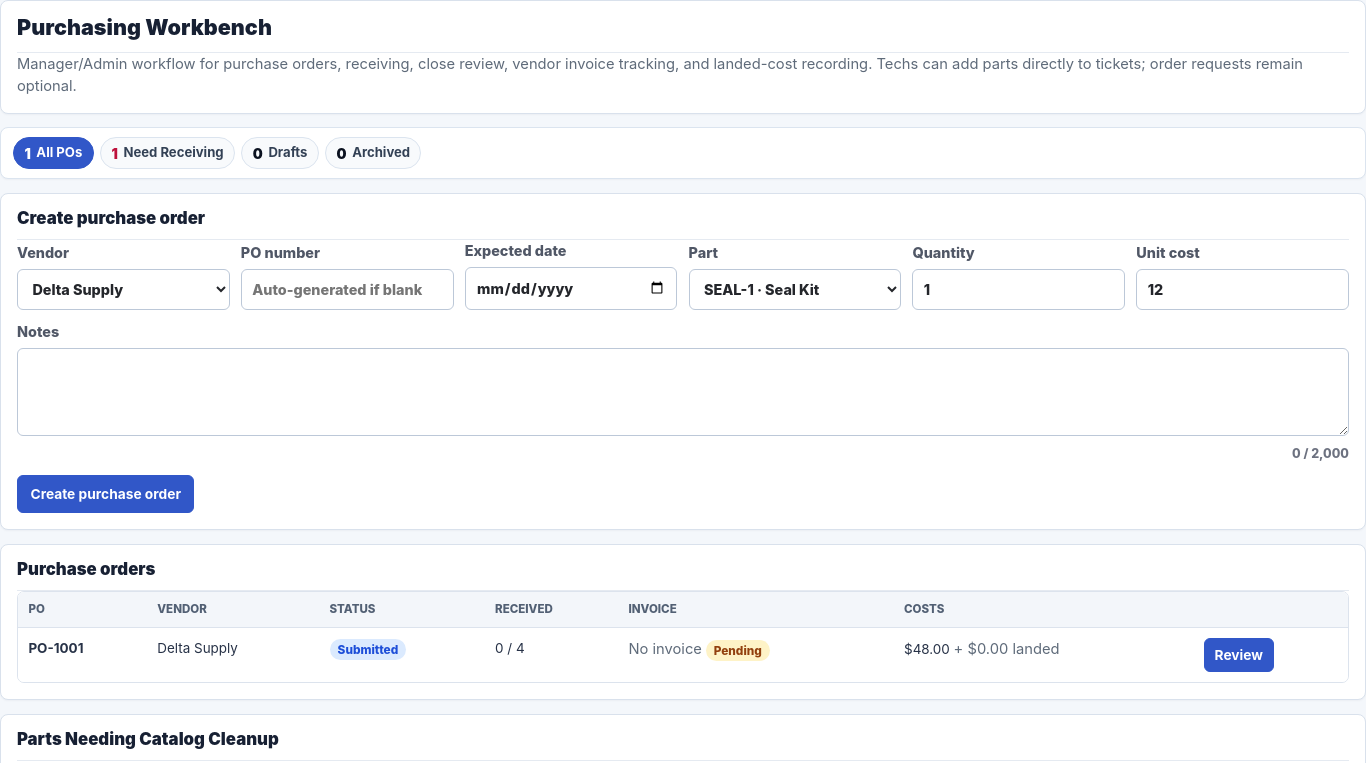
Test case: PurchasingWorkbenchPage › creates a purchase order from selected vendor and part fields
Expected: the text "PO-1001" is shown, [28,640,84,656]
Click the number field named "Quantity ordered".
click(1019, 290)  # box [912,269,1125,310]
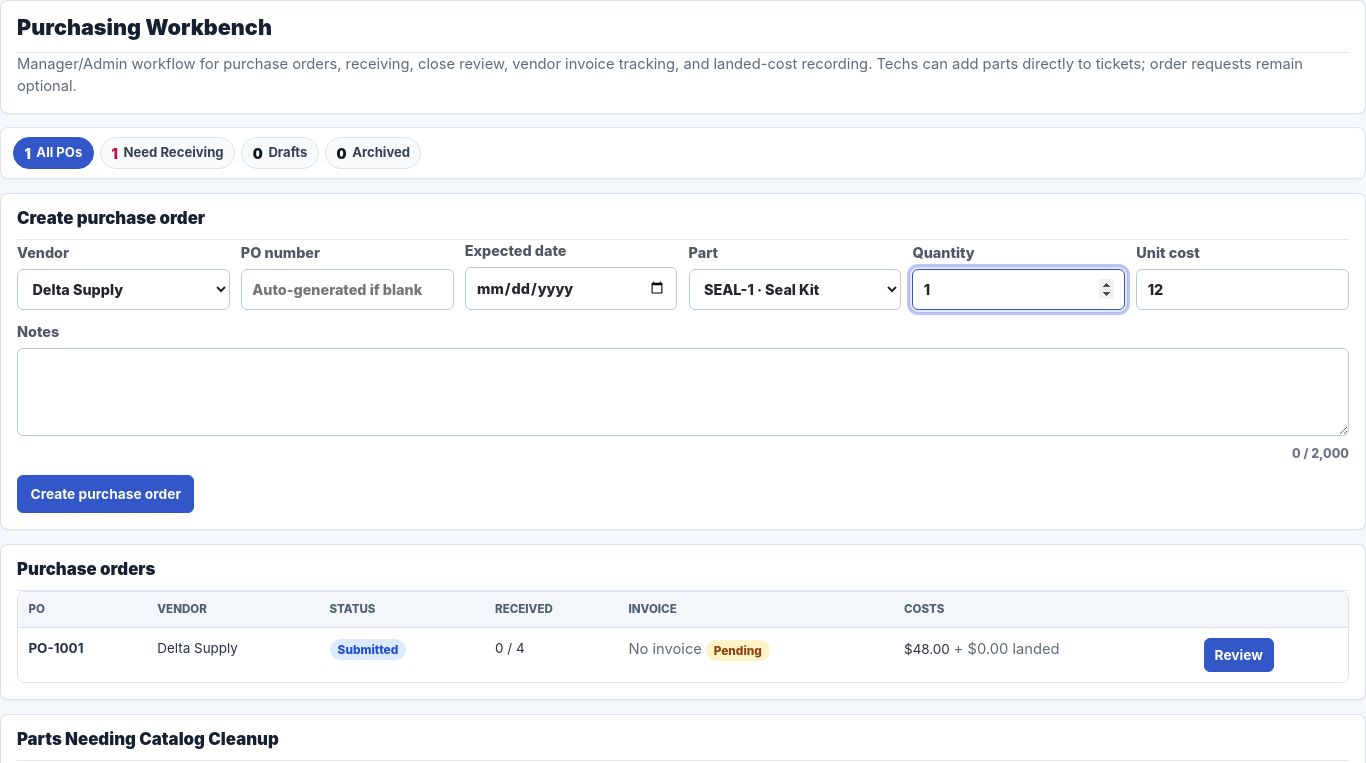
Type keys "{Control>}a{/Control}6"
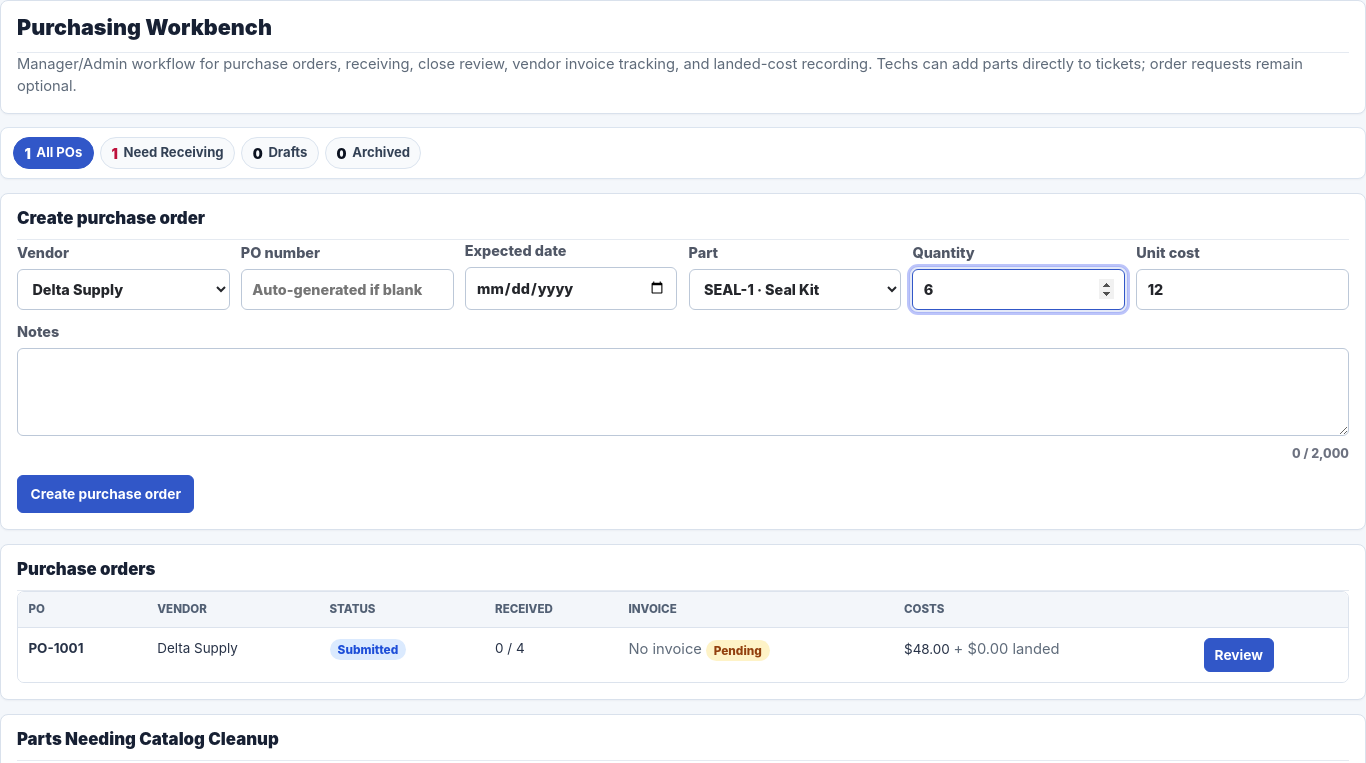
Click the button "Create purchase order".
click(106, 494)  # box [17,475,194,513]
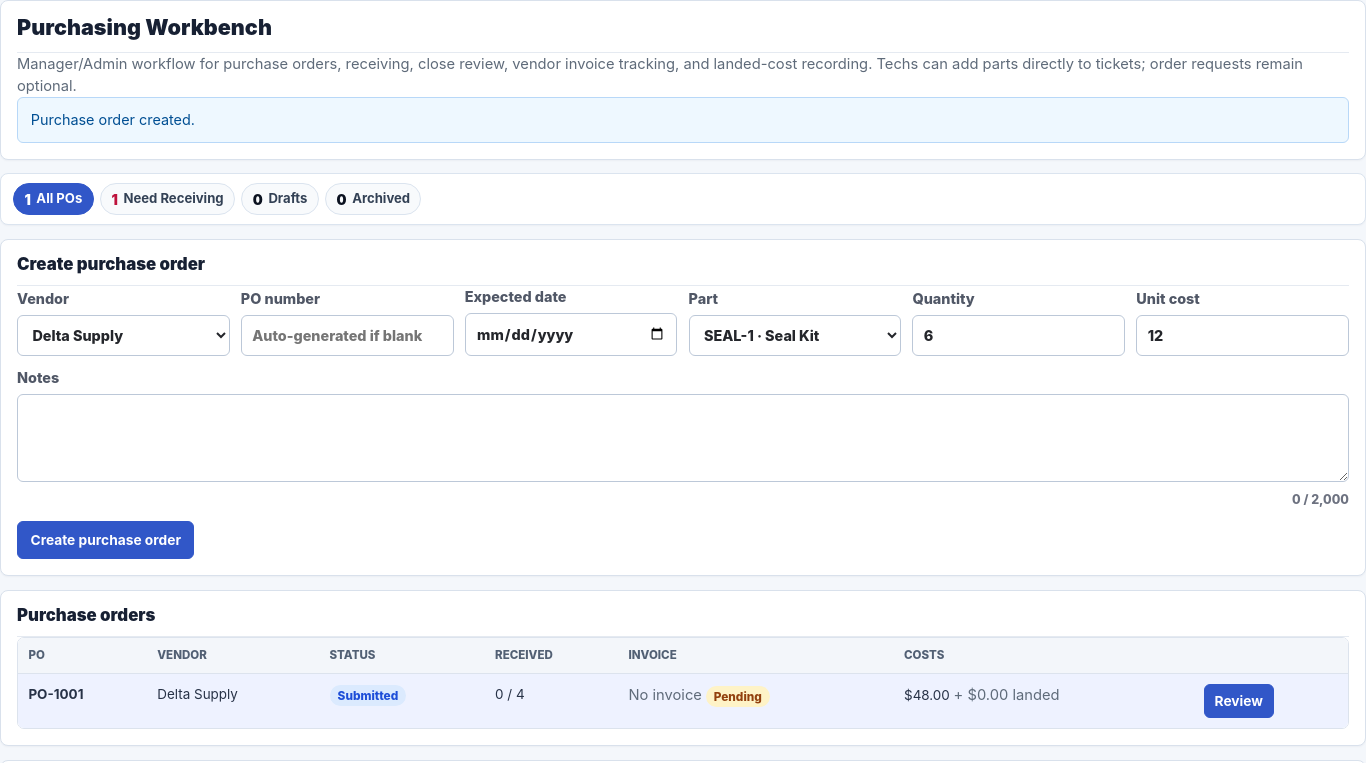
Expected: the text "Purchase order created." is shown, [17,97,1349,143]
